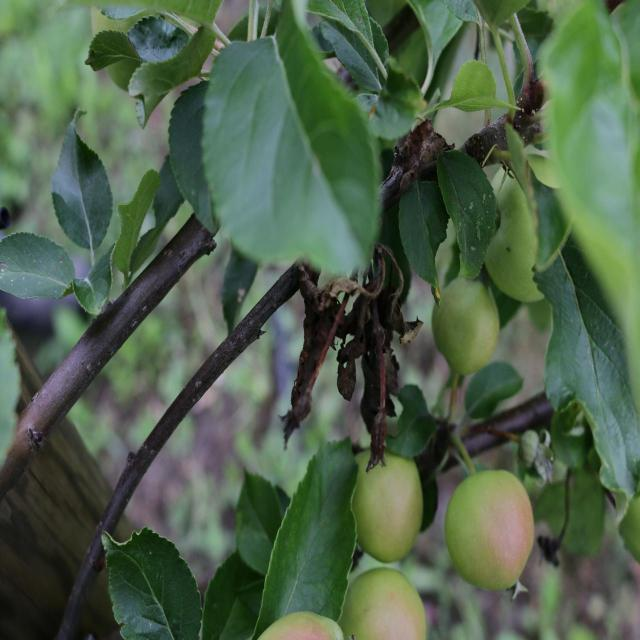-FireBlight-: (283, 238, 431, 451)
